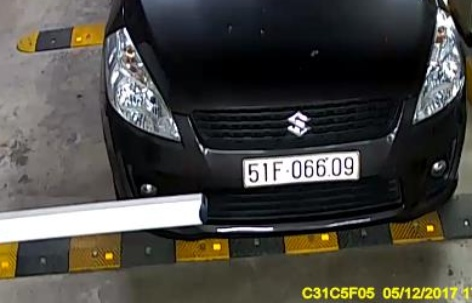plate: (241, 144, 370, 189)
